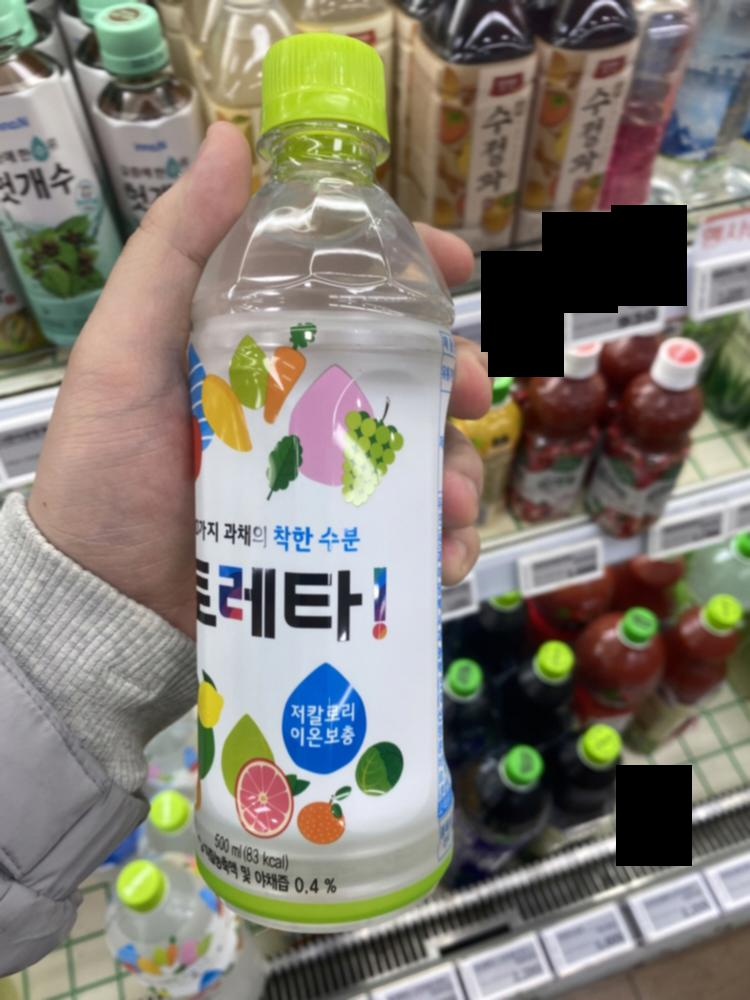toreta: (183, 43, 467, 967)
